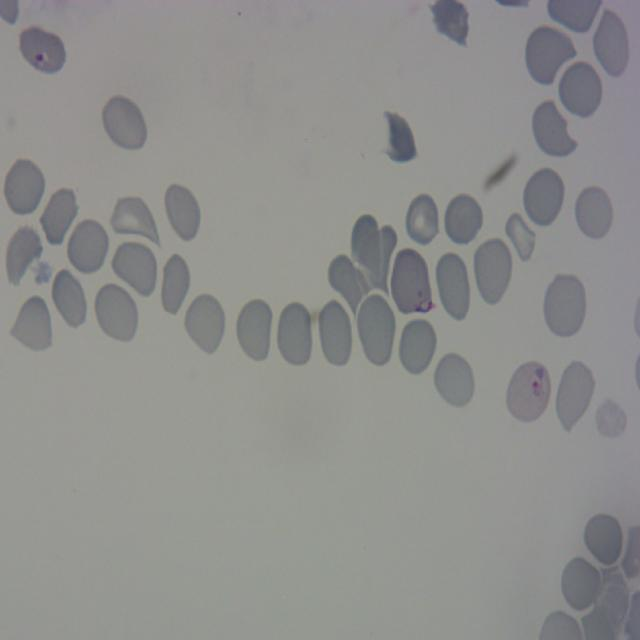leukocyte: (522, 23, 577, 88), (553, 357, 597, 432), (544, 269, 588, 342), (356, 292, 398, 368), (92, 280, 141, 345), (556, 58, 604, 121), (100, 93, 149, 154), (591, 6, 632, 78), (182, 292, 228, 356), (274, 300, 316, 370), (233, 296, 276, 364), (357, 224, 397, 297), (1, 155, 47, 218), (530, 97, 576, 160), (471, 237, 514, 304), (433, 250, 473, 322), (64, 216, 110, 277), (326, 254, 371, 315), (2, 224, 44, 289), (558, 554, 603, 614), (396, 314, 438, 378), (111, 240, 157, 298), (49, 267, 89, 332), (162, 180, 202, 245), (582, 510, 626, 569), (522, 167, 564, 225), (442, 190, 484, 246), (318, 298, 352, 367), (435, 351, 475, 408), (41, 186, 79, 246), (112, 196, 158, 245), (402, 192, 442, 248), (574, 184, 613, 240), (13, 297, 53, 351), (161, 252, 191, 317), (349, 212, 382, 271), (382, 109, 417, 164), (503, 210, 537, 263), (595, 396, 628, 440)
red blood cell: (388, 244, 435, 317), (504, 358, 552, 426)
